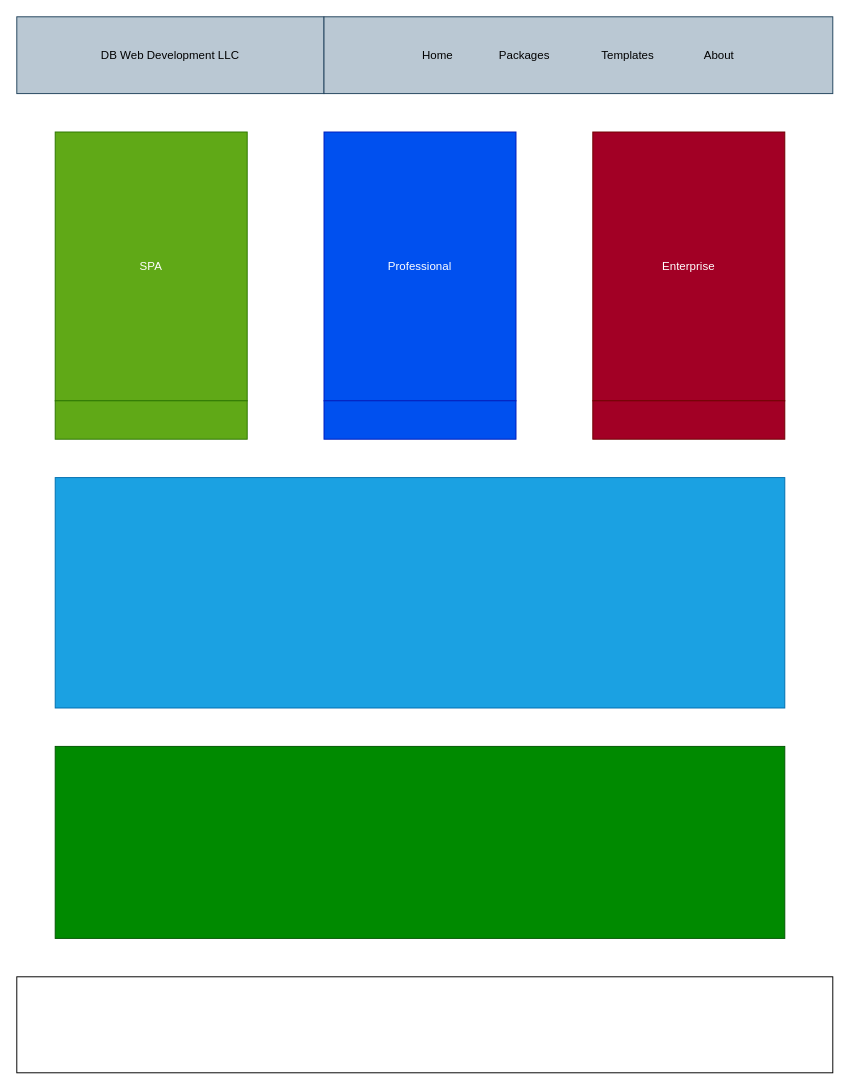
This 850x1090 diagram has some shape labels left out. The shapes that lost their labels are listed below. From the top down, each one's centre as x and y in pixels, then its label:
At point 419,592: "Additional Services".
At point 419,841: "Processes".
At point 424,1024: "Footer".
